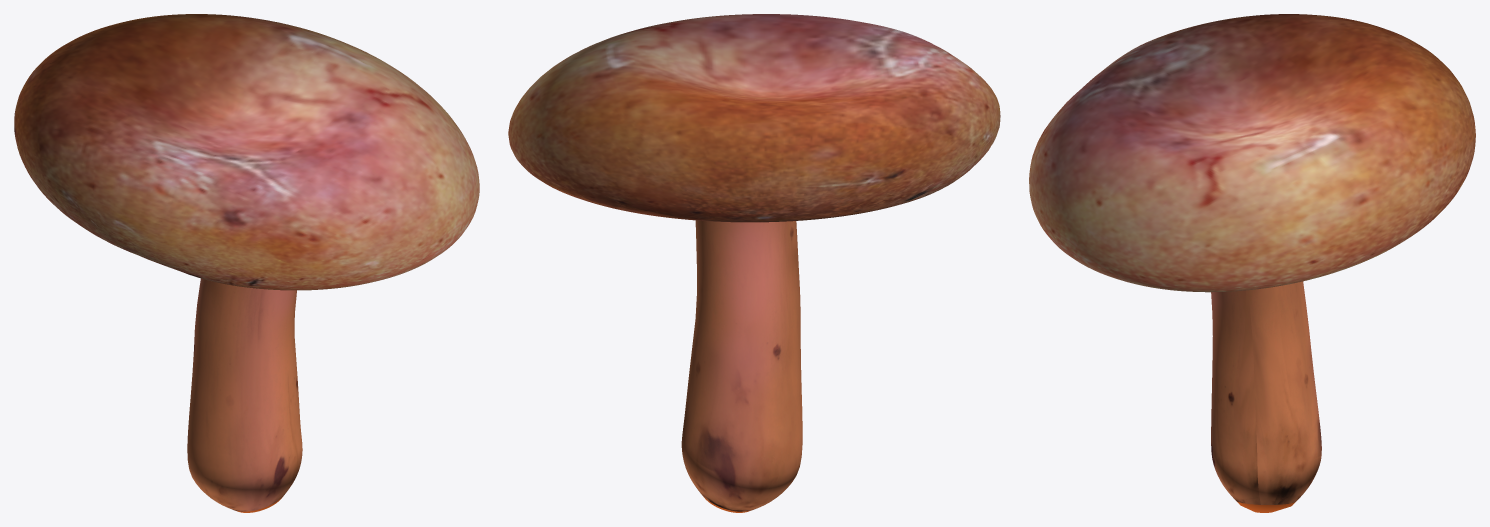
Rendered from SENE_30.fbx.
The picture shows the model from 3 angles, left to right: view 1: azimuth 30°, elevation 25°; view 2: azimuth 150°, elevation 25°; view 3: azimuth 270°, elevation 25°; orthographic projection. The views are drawn at different scales.
Visible parts, largest first — view 1: SENE_30; view 2: SENE_30; view 3: SENE_30.
Part boxes in pixels (<box>): SENE_30: <box>14,14,479,512</box>; SENE_30: <box>508,14,1000,512</box>; SENE_30: <box>1029,14,1475,512</box>.
Bounding box in the file's own units: 66.25 × 68.46 × 65.41.
Materials: 1 (1 with a texture image).
